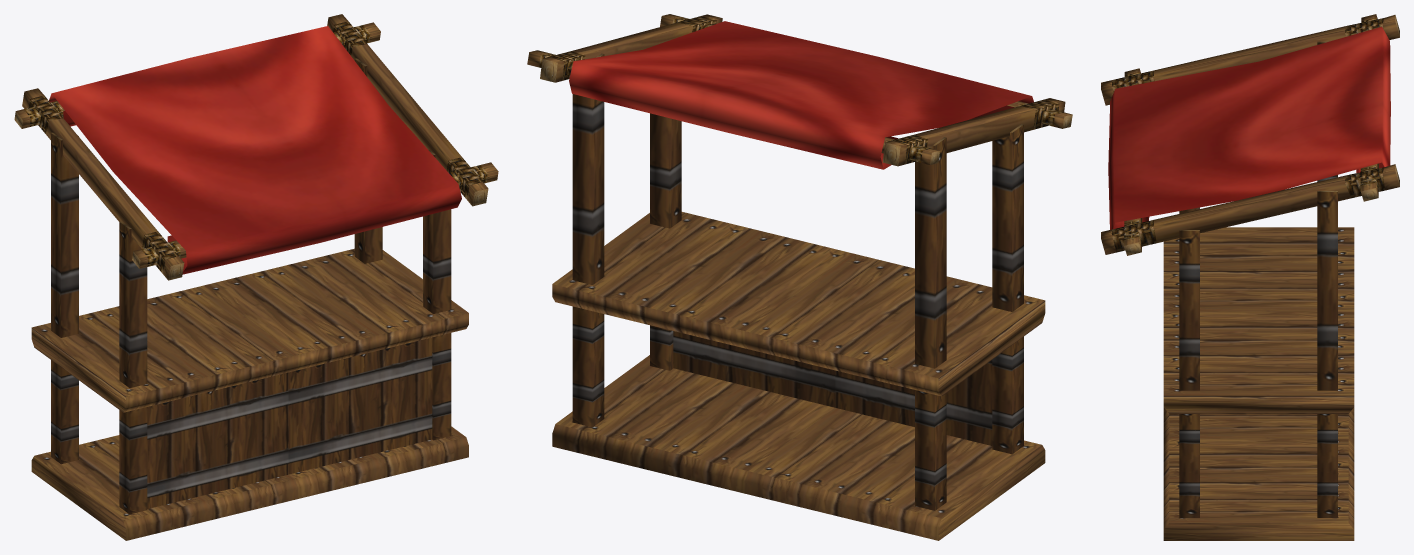
File: MarketPlace04B.fbx
3 renders of one model, left to right at view 1: azimuth 30°, elevation 25°; view 2: azimuth 150°, elevation 25°; view 3: azimuth 270°, elevation 25°, orthographic. The views are drawn at different scales.
Visible parts, largest first — view 1: MarketPlace04B; view 2: MarketPlace04B; view 3: MarketPlace04B.
Part boxes in pixels (x1=…): MarketPlace04B: x1=14, y1=14, x2=498, y2=540; MarketPlace04B: x1=527, y1=14, x2=1072, y2=540; MarketPlace04B: x1=1101, y1=14, x2=1399, y2=540.
Size of the model in its own units: 5.97 by 5.77 by 4.29.
